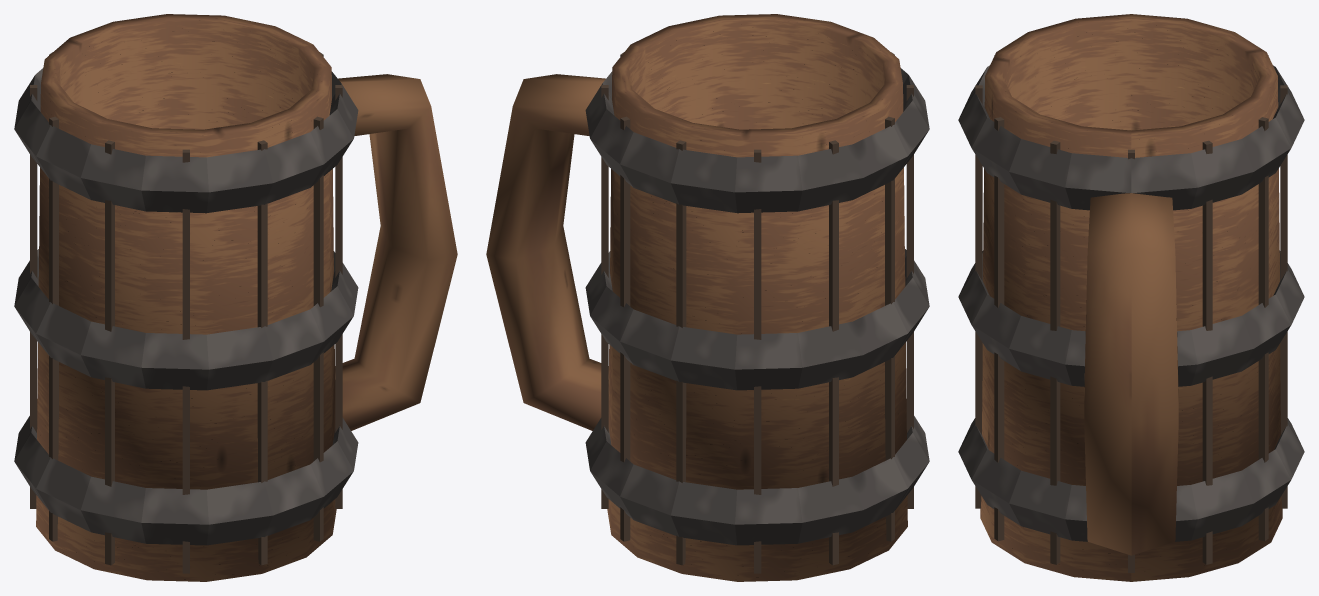
The model's file is wooden_tankard.glb.
The picture shows the model from 3 angles, left to right: view 1: azimuth 30°, elevation 25°; view 2: azimuth 150°, elevation 25°; view 3: azimuth 270°, elevation 25°; orthographic projection.
Parts seen in each view (by area): view 1: wooden_tankard_cup_body, wooden_tankard_rim_bands, wooden_tankard_handle; view 2: wooden_tankard_cup_body, wooden_tankard_rim_bands, wooden_tankard_handle; view 3: wooden_tankard_cup_body, wooden_tankard_rim_bands, wooden_tankard_handle.
Part boxes in pixels (left/top/right/bottom): wooden_tankard_cup_body: left=30, top=14, right=342, bottom=581; wooden_tankard_rim_bands: left=14, top=68, right=358, bottom=545; wooden_tankard_handle: left=335, top=74, right=457, bottom=430; wooden_tankard_cup_body: left=601, top=14, right=913, bottom=581; wooden_tankard_rim_bands: left=585, top=68, right=929, bottom=545; wooden_tankard_handle: left=486, top=74, right=608, bottom=430; wooden_tankard_cup_body: left=975, top=14, right=1287, bottom=581; wooden_tankard_rim_bands: left=958, top=65, right=1304, bottom=541; wooden_tankard_handle: left=1084, top=193, right=1178, bottom=555.
Size of what is drawn, in the model's own units: 0.195 by 0.2 by 0.142.
3 materials, 3 textured.
